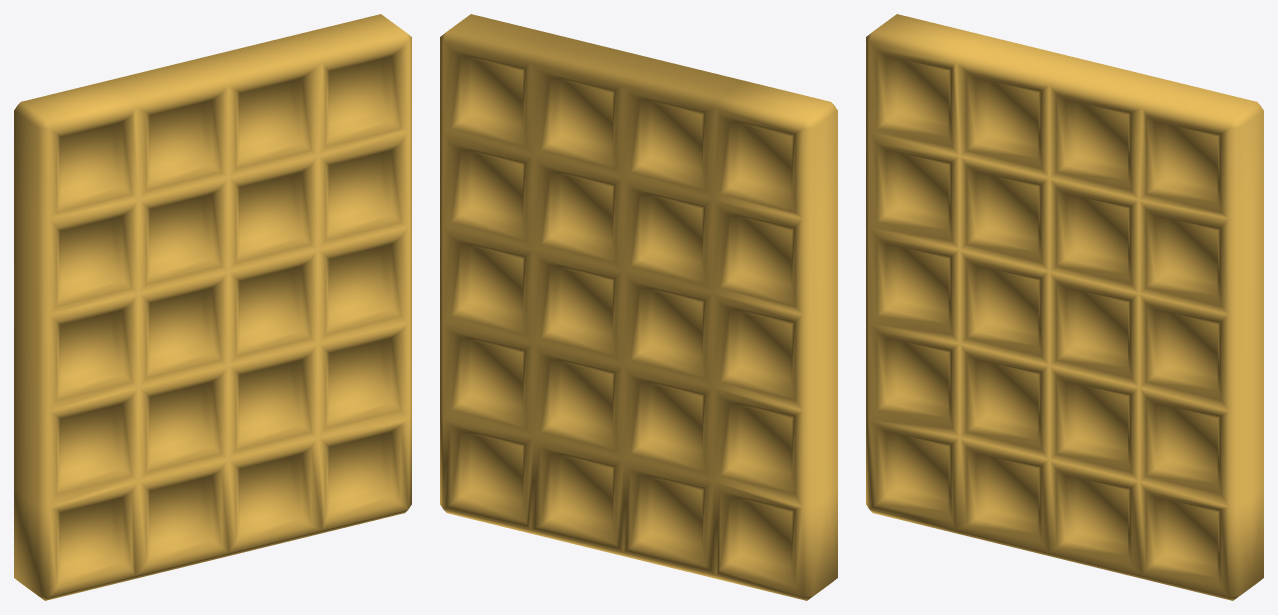
The model's file is waffle.glb.
3 views of the same model, side by side, from view 1: azimuth 30°, elevation 25°; view 2: azimuth 150°, elevation 25°; view 3: azimuth 330°, elevation 25° (orthographic).
Visible parts, largest first — view 1: Cube; view 2: Cube; view 3: Cube.
Part boxes in pixels (x1,y1,x2,y2): Cube: (14,14,411,600); Cube: (440,14,837,600); Cube: (866,14,1263,600).
Bounding box in the file's own units: 8.33 × 10.25 × 1.23.
